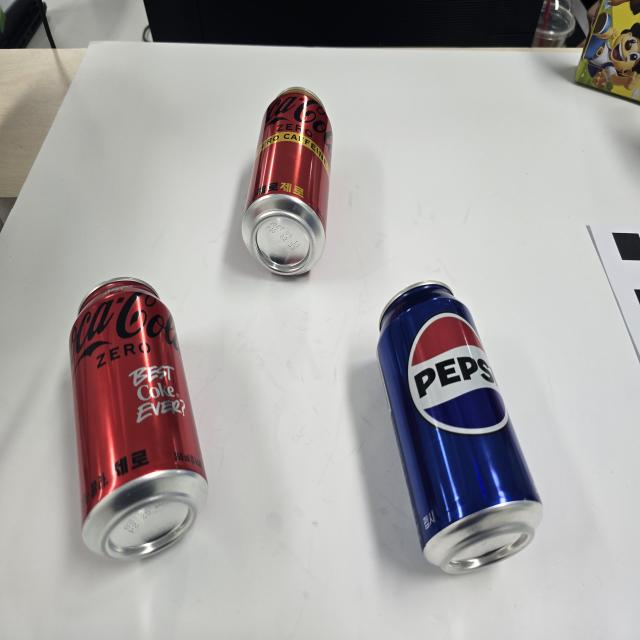can_coke_decaf: (242, 88, 333, 275)
can_coke_zero: (69, 278, 208, 559)
can_pepsi: (377, 282, 542, 574)
